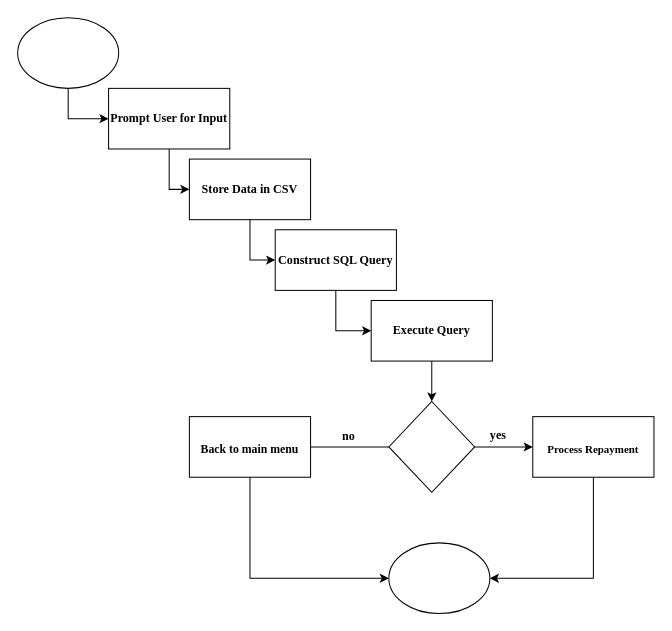
Some shapes in this 672 by 631 pixel diagram are drawn without their labels. The centre of each missing label's shape, as x and y in pixels:
End: point 439,578
Repay Loan Now?: point 431,446
Start: point 68,52
